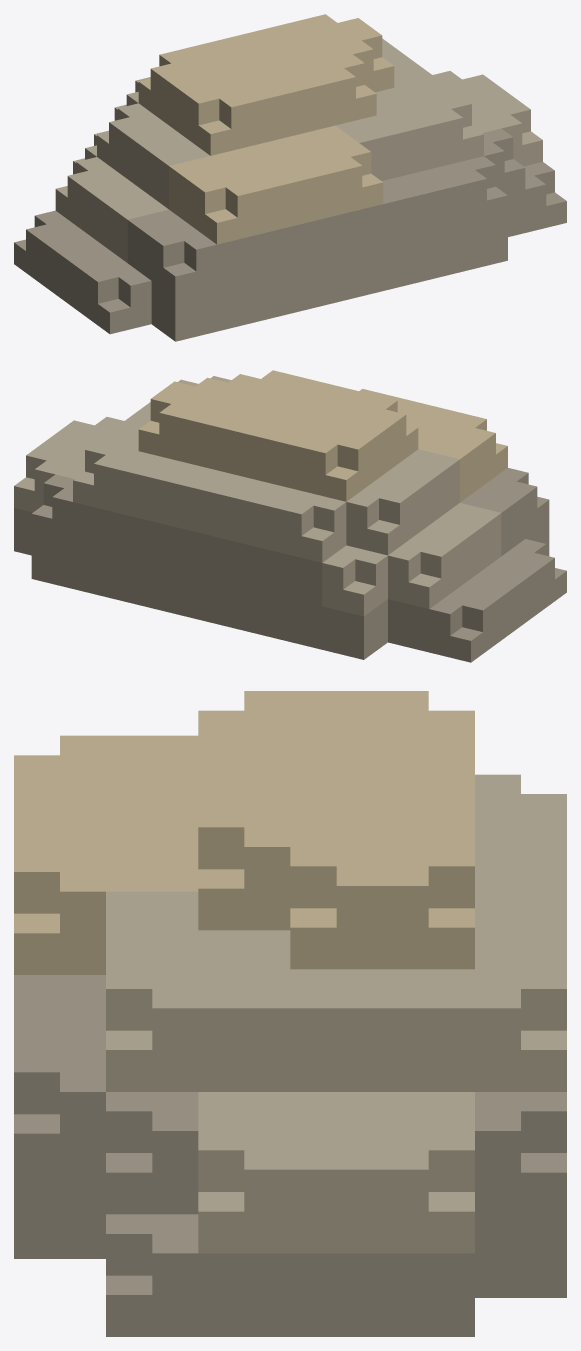
Rendered from hearthvale_rock_slab.obj.
3 renders of one model, top to bottom at view 1: azimuth 30°, elevation 25°; view 2: azimuth 150°, elevation 25°; view 3: azimuth 270°, elevation 25°, orthographic. The views are drawn at different scales.
Visible parts, largest first — view 1: palette_10, palette_6, palette_11; view 2: palette_10, palette_11, palette_6; view 3: palette_11, palette_6, palette_10.
Part boxes in pixels (x1,y1,x2,y2): palette_10: [14, 128, 566, 341]; palette_6: [138, 14, 394, 244]; palette_11: [55, 38, 542, 262]; palette_10: [14, 468, 566, 662]; palette_11: [14, 376, 501, 616]; palette_6: [138, 370, 507, 502]; palette_11: [106, 774, 566, 1253]; palette_6: [14, 691, 474, 974]; palette_10: [14, 975, 566, 1336].
Bounding box in the file's own units: 1.38 × 0.5 × 0.75.
